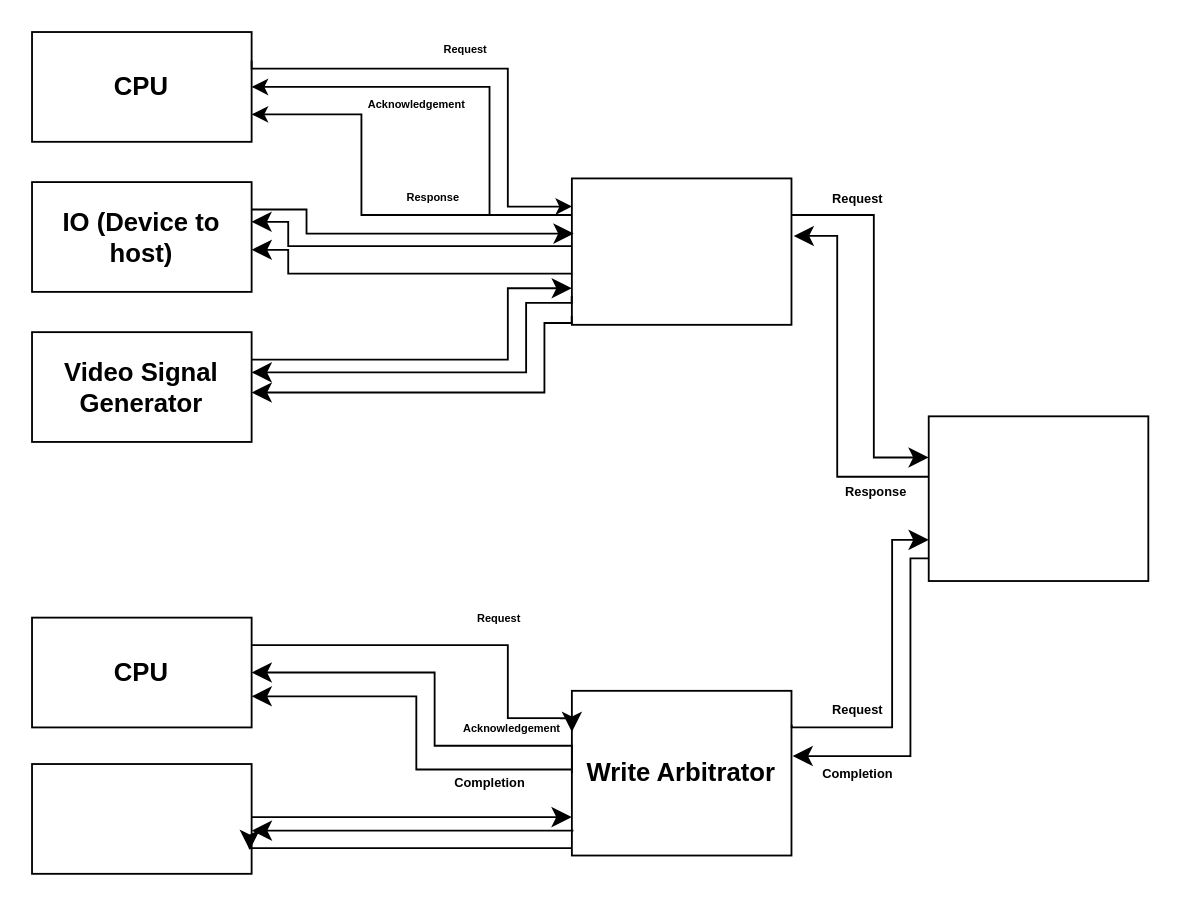
The diagram is 1180 pixels wide and 908 high, and some of its shapes have lost their labels. Each missing label, with the centre of its shape:
"Core" belongs at (x=1037, y=497).
"IO (Host to device)" belongs at (x=141, y=818).
"Read Arbitrator" belongs at (x=680, y=251).
